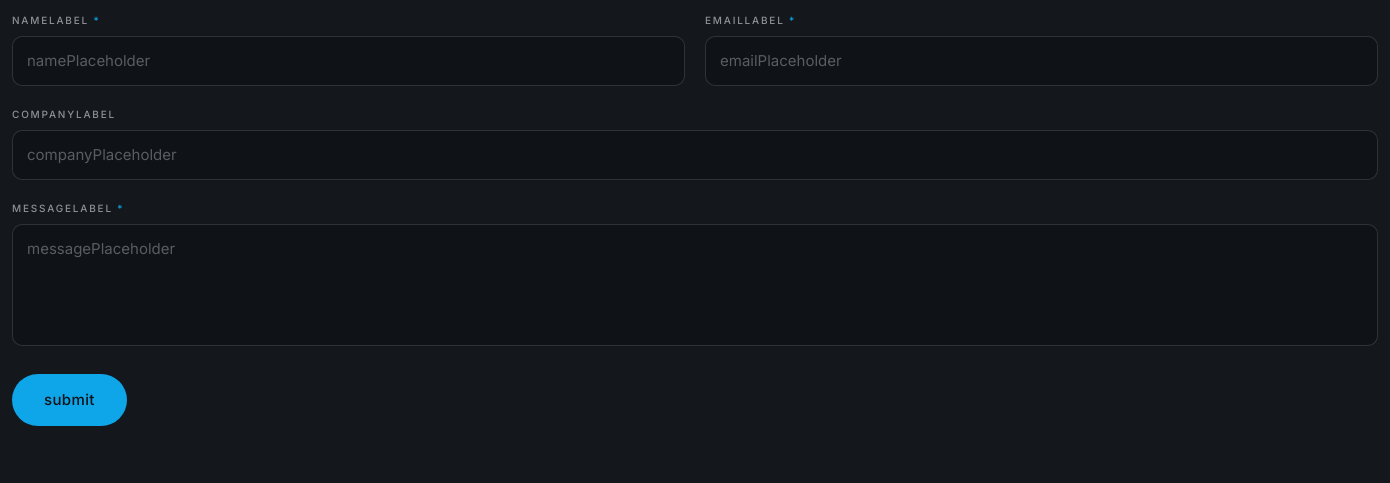
Test: ContactForm › shows error state on failed fetch
The image size is (1390, 483).
Type "María" into the field labelled "nameLabel *" at (348, 61), box [12,36,685,86]
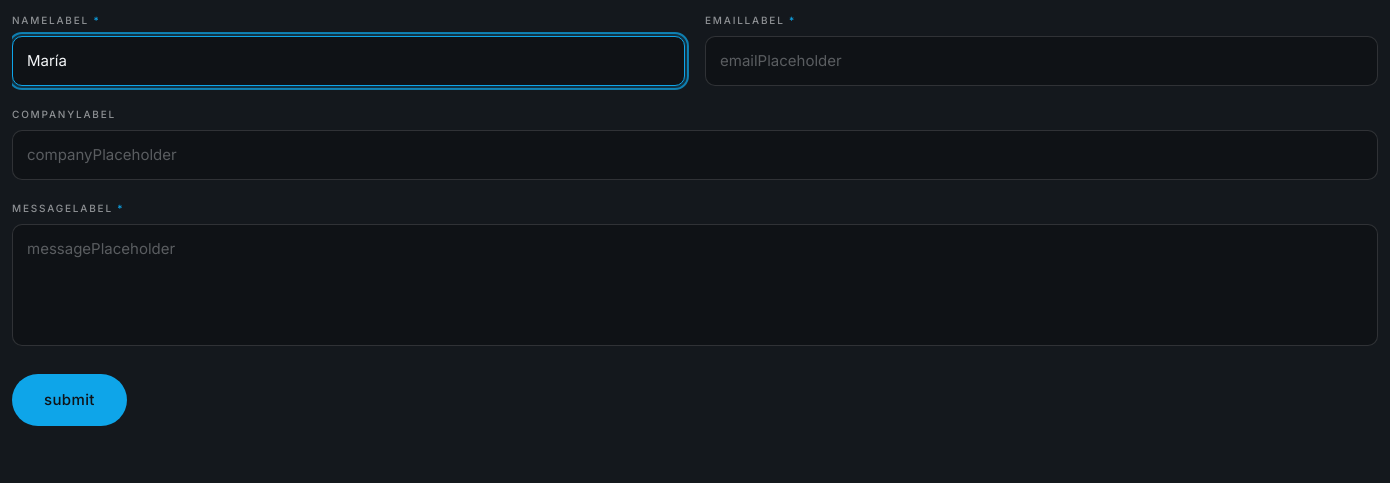
Type "maria@example.com" into the field labelled "emailLabel *" at (1042, 61), box [705,36,1378,86]
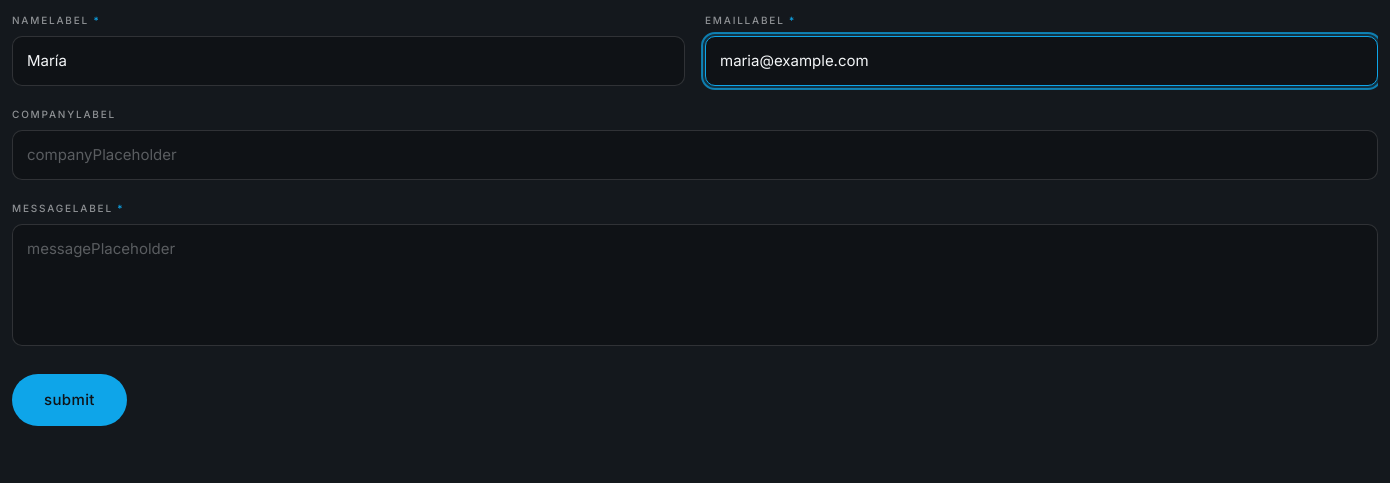
Type "I would like to discuss a partnership opportunity" into the text box labelled "messageLabel *" at (695, 285), box [12,224,1378,346]
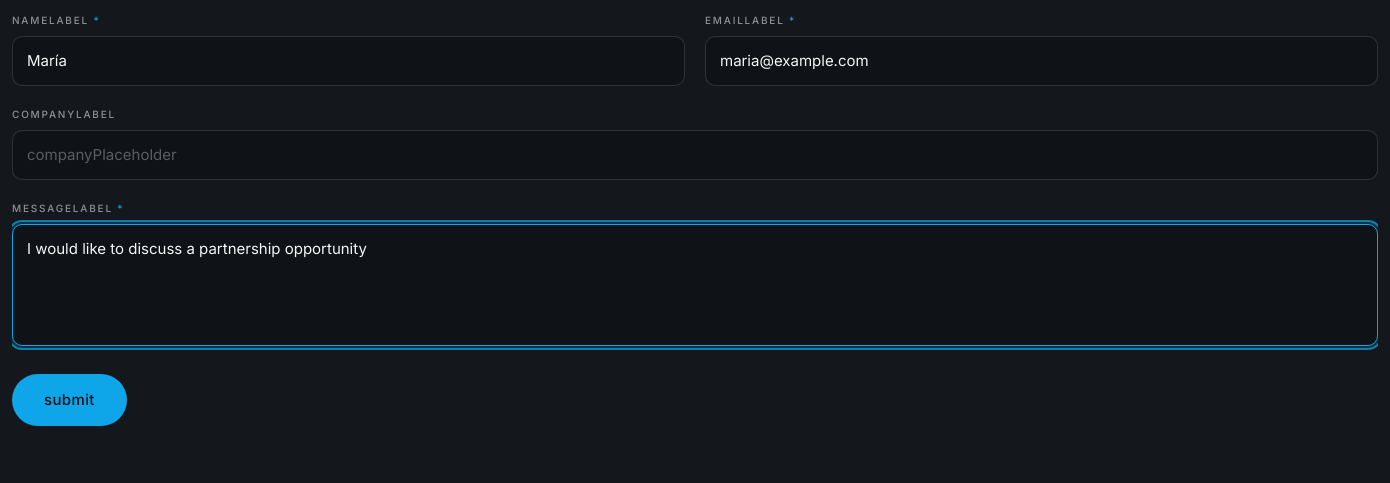
Click the button "submit" at (69, 400), box [12,374,127,426]
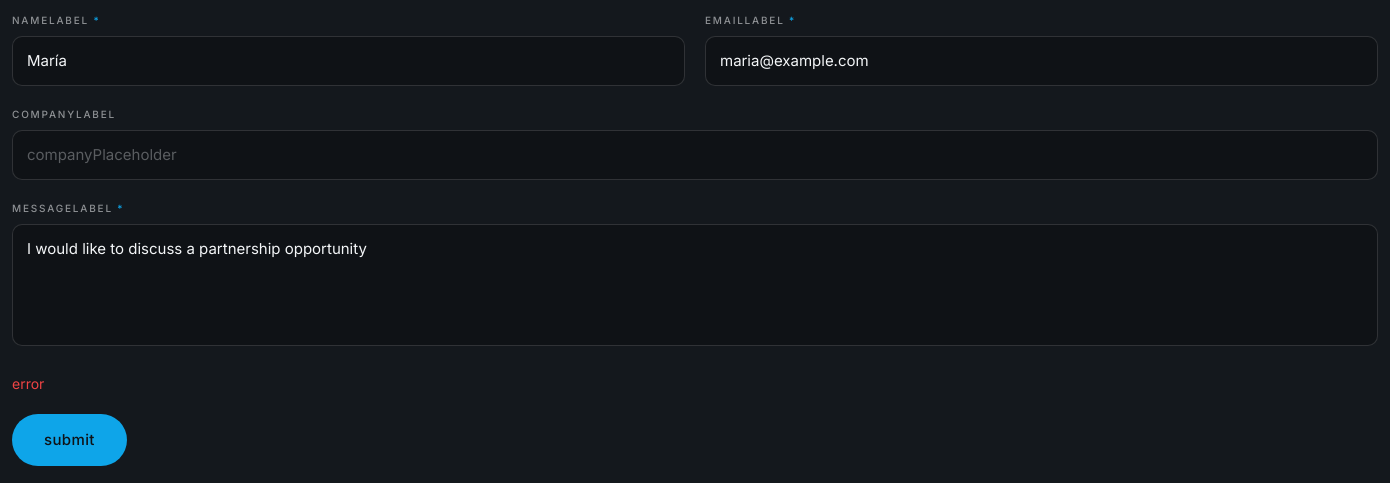
Expected: the text "error" is shown, [12,375,44,392]
